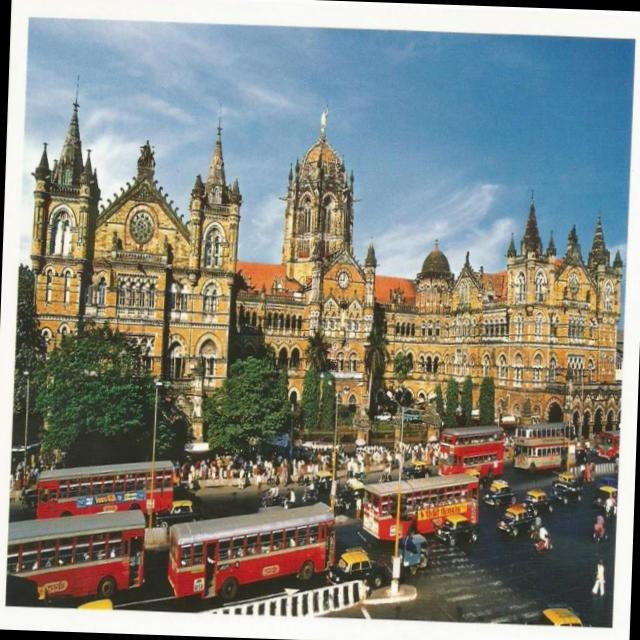bus: (166, 496, 339, 614), (5, 504, 148, 601), (362, 466, 482, 548), (32, 452, 177, 518), (509, 418, 580, 478), (436, 423, 504, 480), (595, 428, 621, 462)
